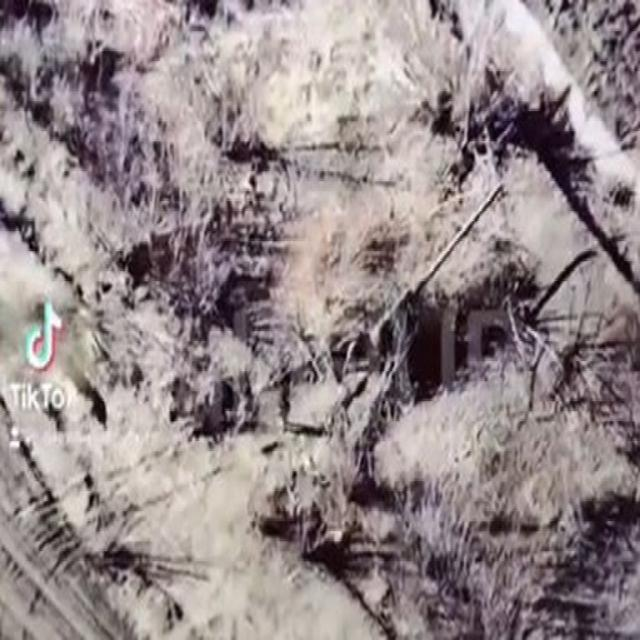ART: (253, 178, 508, 480)
